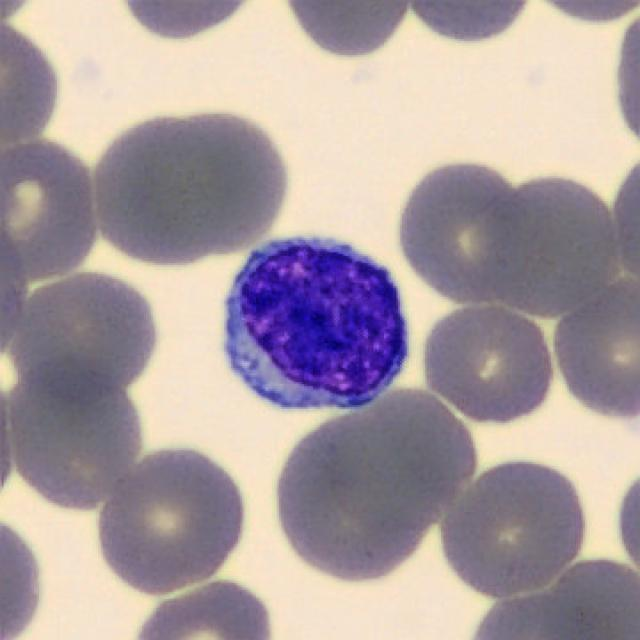Linfocito atipico: (220, 236, 409, 411)
